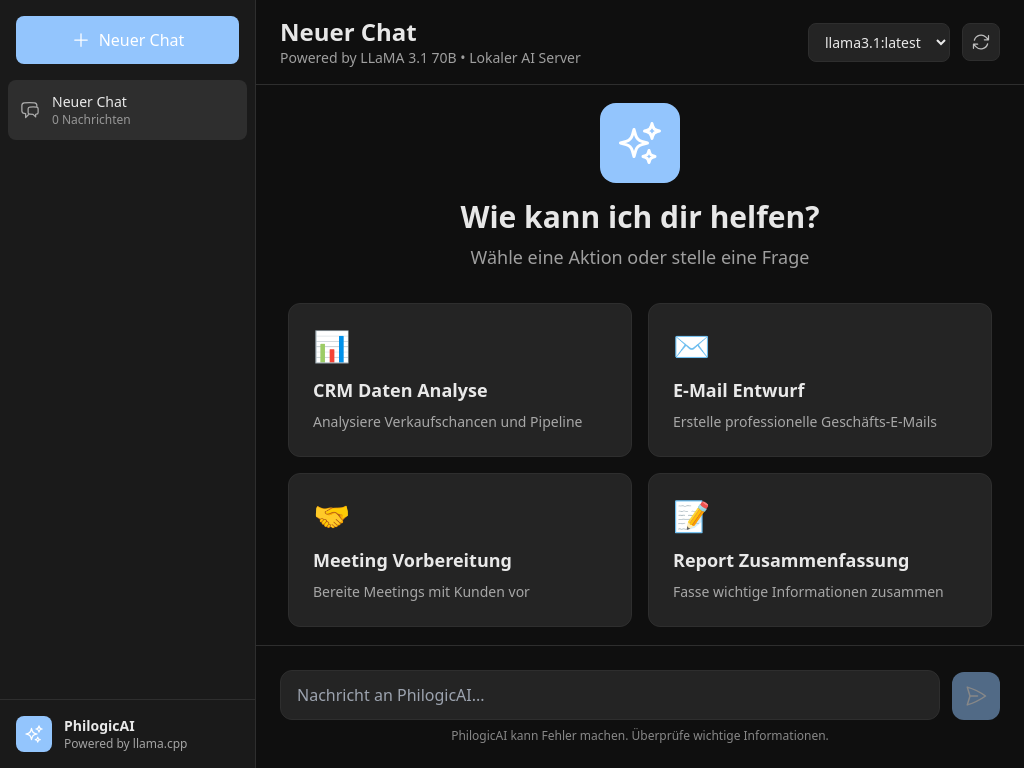
Test: PhilogicAI Page - Message Display › updates message count
Expected: the text "0 Nachrichten" is shown, [52, 111, 131, 128]
Type "Test message" into the text box with placeholder "Nachricht an PhilogicAI..." at [610, 695], box [280, 670, 940, 720]
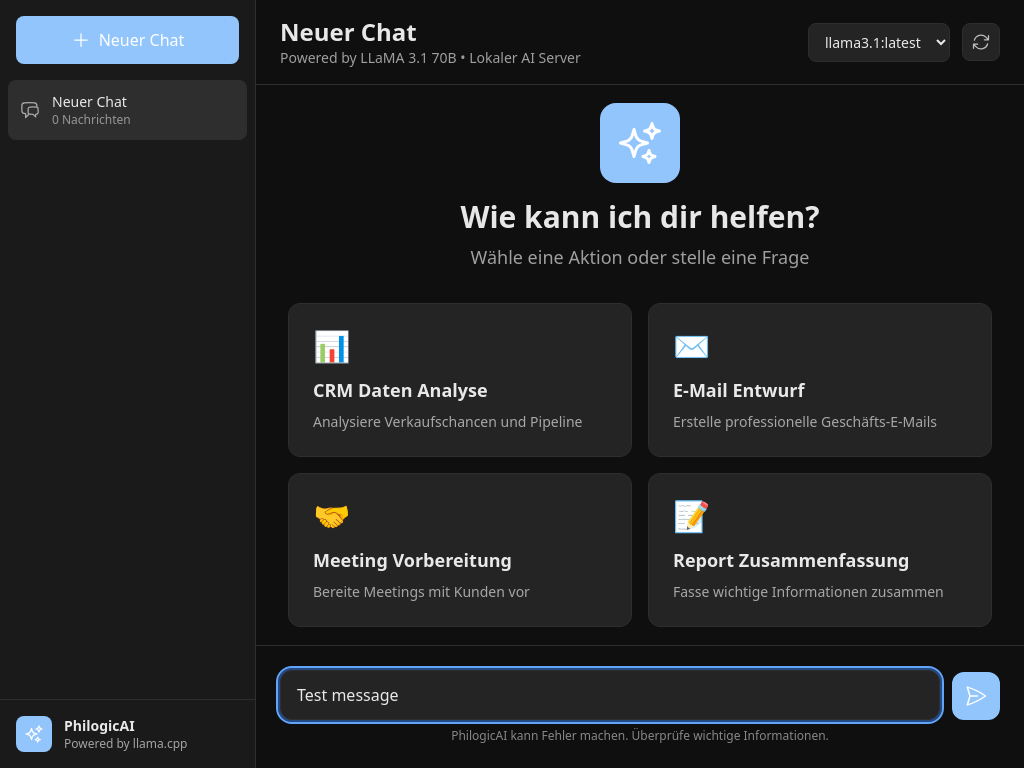
Click the 8th button at [976, 696], box [952, 672, 1000, 720]
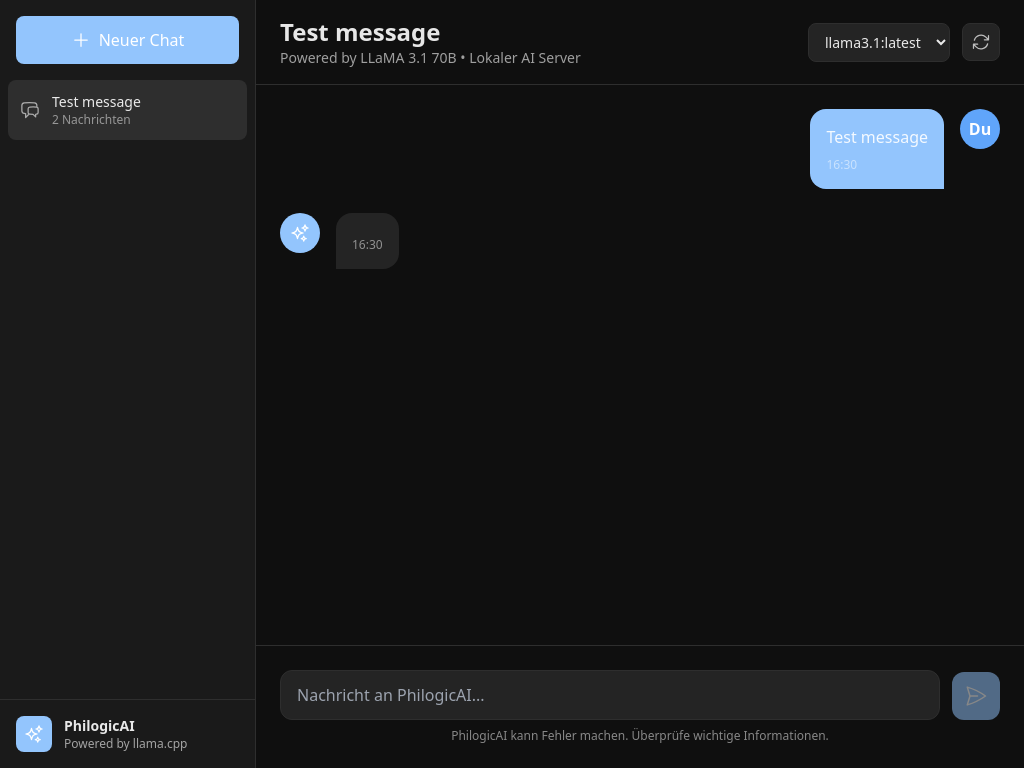
Now the text "2 Nachrichten" is shown, box [52, 111, 131, 128]
